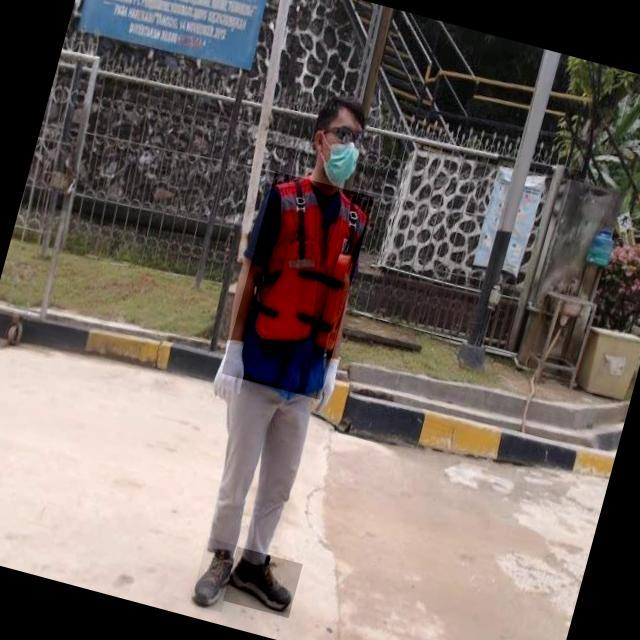Gloves: (205, 334, 253, 407), (310, 345, 349, 412)
Person: (178, 84, 378, 627)
Safety Boot: (222, 546, 302, 618), (189, 537, 239, 612)
Safety Vest: (221, 171, 374, 400)
no-helmet: (313, 94, 371, 132)
